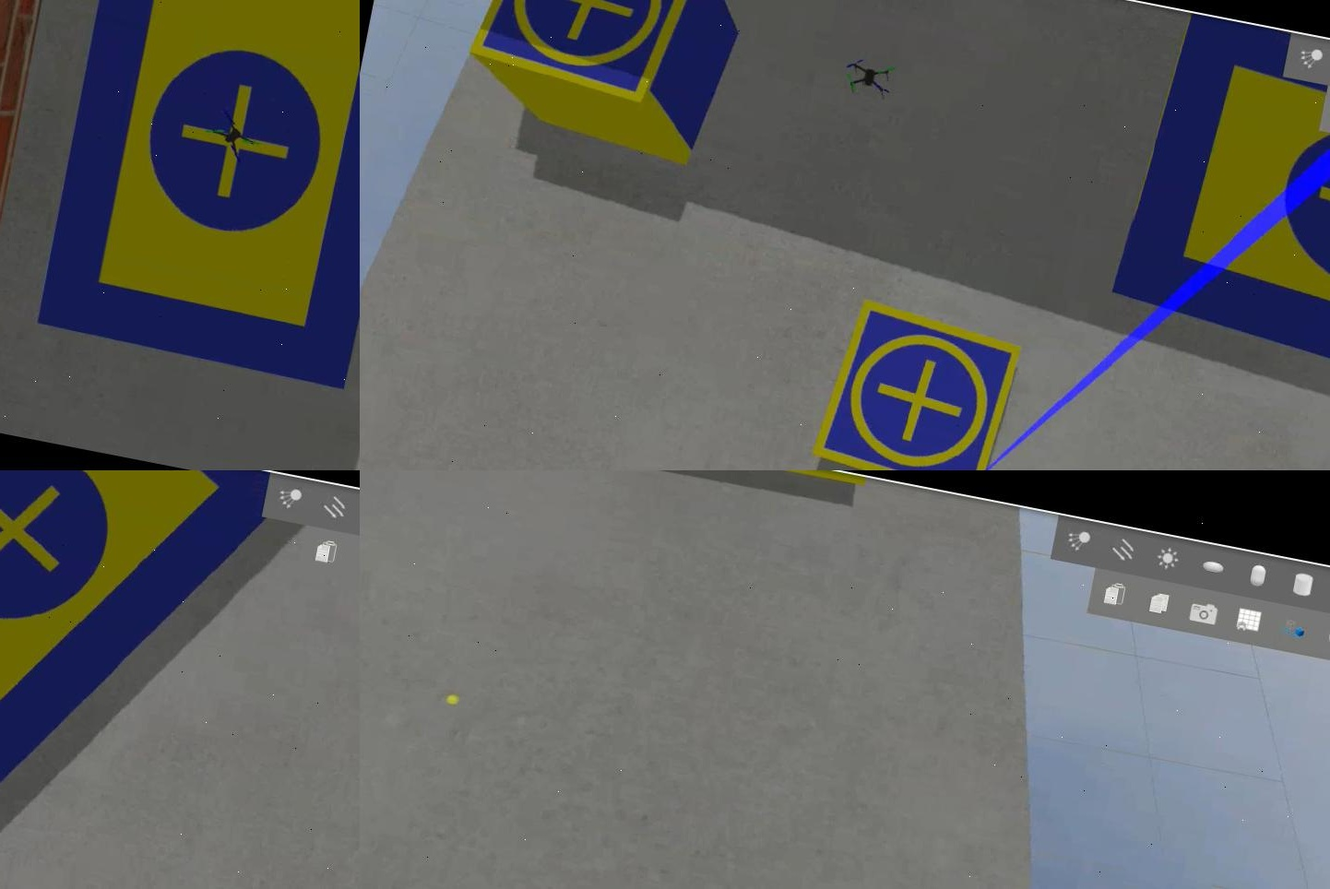large_base: (33, 1, 359, 391), (0, 471, 271, 864), (1098, 6, 1328, 433)
small_base: (803, 290, 1029, 471), (461, 1, 716, 112)
